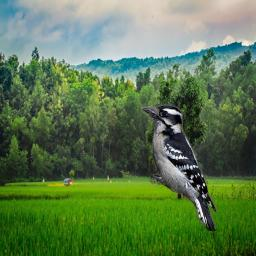Woodpecker: (141, 103, 217, 233)
